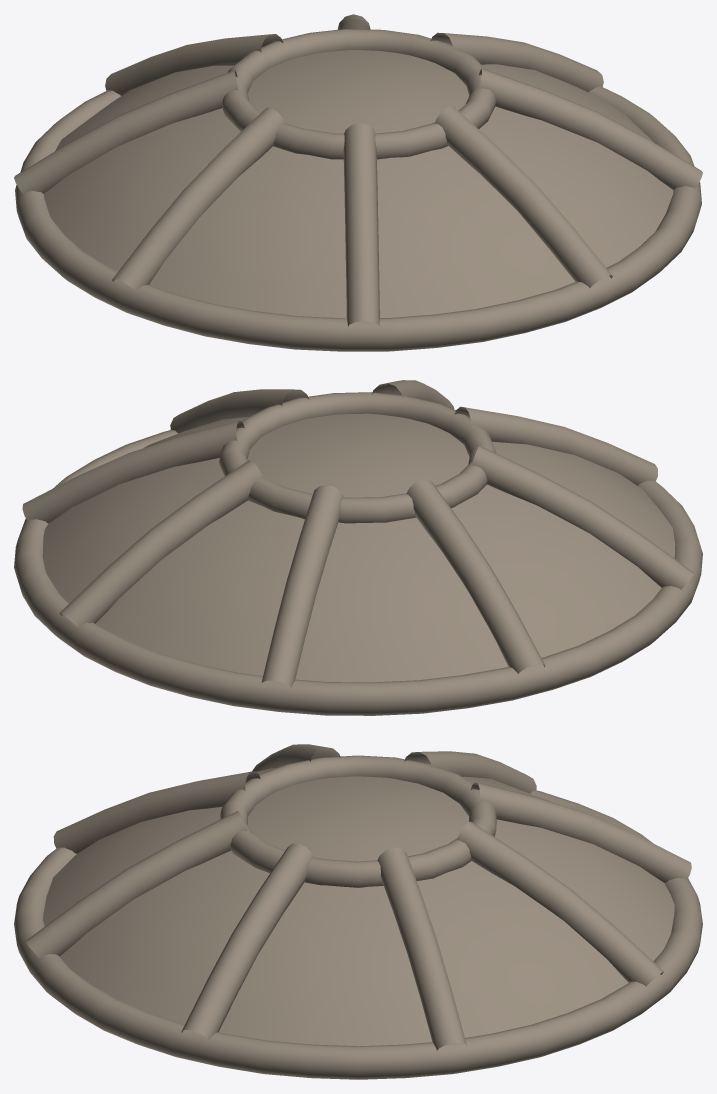
Rendered from SM_Ceiling.fbx.
3 renders of one model, top to bottom at view 1: azimuth 30°, elevation 25°; view 2: azimuth 150°, elevation 25°; view 3: azimuth 270°, elevation 25°, orthographic.
Visible parts, largest first — view 1: SM_Ceiling; view 2: SM_Ceiling; view 3: SM_Ceiling.
Boxes of the visible parts, box(x1,y1,x2,y2) form: SM_Ceiling: box(14, 14, 702, 351); SM_Ceiling: box(14, 380, 702, 715); SM_Ceiling: box(14, 744, 702, 1079).
Bounding box in the file's own units: 7.67 × 1.74 × 7.66.
